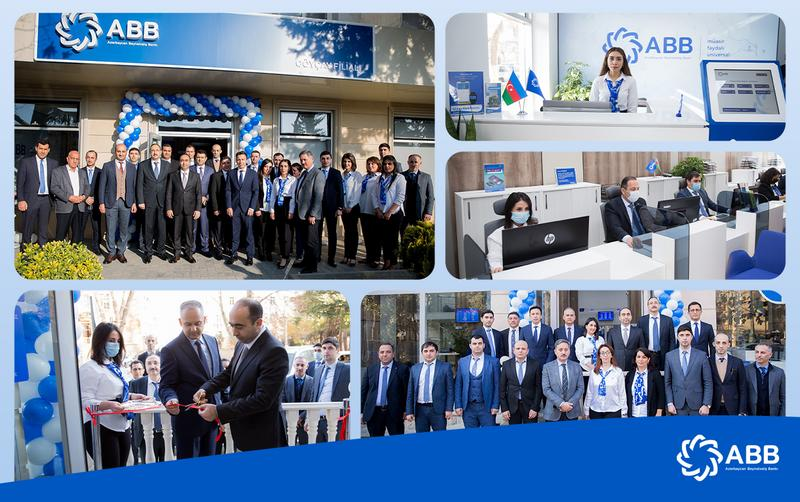ABB: (675, 433, 725, 483), (54, 12, 104, 54), (600, 26, 643, 63)
